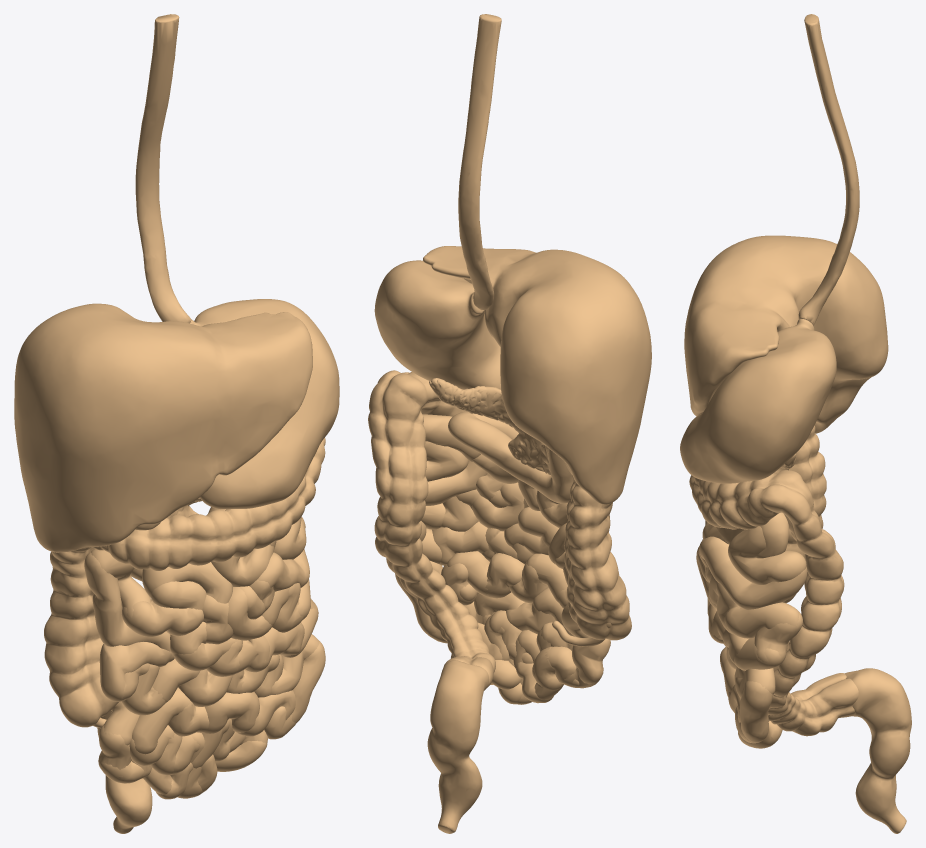
The model's file is digestive.glb.
The picture shows the model from 3 angles, left to right: view 1: azimuth 30°, elevation 25°; view 2: azimuth 150°, elevation 25°; view 3: azimuth 270°, elevation 25°; orthographic projection. The views are drawn at different scales.
Visible parts, largest first — view 1: FMA7197, FMA7208, FMA7207, FMA14543nsn, FMA7148, FMA7131, FMA14544; view 2: FMA7197, FMA14543nsn, FMA7208, FMA7207, FMA7148, FMA14544, FMA7131, FMA7206, FMA7198nsn; view 3: FMA7197, FMA14543nsn, FMA7148, FMA7207, FMA14544, FMA7131, FMA7208.
Part boxes in pixels (bbox=[...]): FMA7197: bbox=[14, 303, 312, 552]; FMA7208: bbox=[98, 634, 325, 799]; FMA7207: bbox=[84, 516, 318, 676]; FMA14543nsn: bbox=[44, 438, 325, 727]; FMA7148: bbox=[190, 299, 339, 509]; FMA7131: bbox=[135, 14, 191, 323]; FMA14544: bbox=[97, 710, 152, 833]; FMA7197: bbox=[423, 246, 651, 504]; FMA14543nsn: bbox=[368, 370, 631, 687]; FMA7208: bbox=[395, 551, 619, 704]; FMA7207: bbox=[419, 411, 612, 565]; FMA7148: bbox=[374, 260, 500, 389]; FMA14544: bbox=[427, 660, 488, 833]; FMA7131: bbox=[458, 14, 501, 310]; FMA7206: bbox=[448, 411, 573, 503]; FMA7198nsn: bbox=[429, 378, 550, 474]; FMA7197: bbox=[684, 235, 888, 433]; FMA14543nsn: bbox=[689, 425, 858, 736]; FMA7148: bbox=[680, 318, 836, 483]; FMA7207: bbox=[696, 512, 807, 670]; FMA14544: bbox=[845, 668, 911, 833]; FMA7131: bbox=[798, 14, 859, 325]; FMA7208: bbox=[720, 644, 782, 748].
Bounding box in the file's own units: 0.2322 × 0.6596 × 0.1705.
